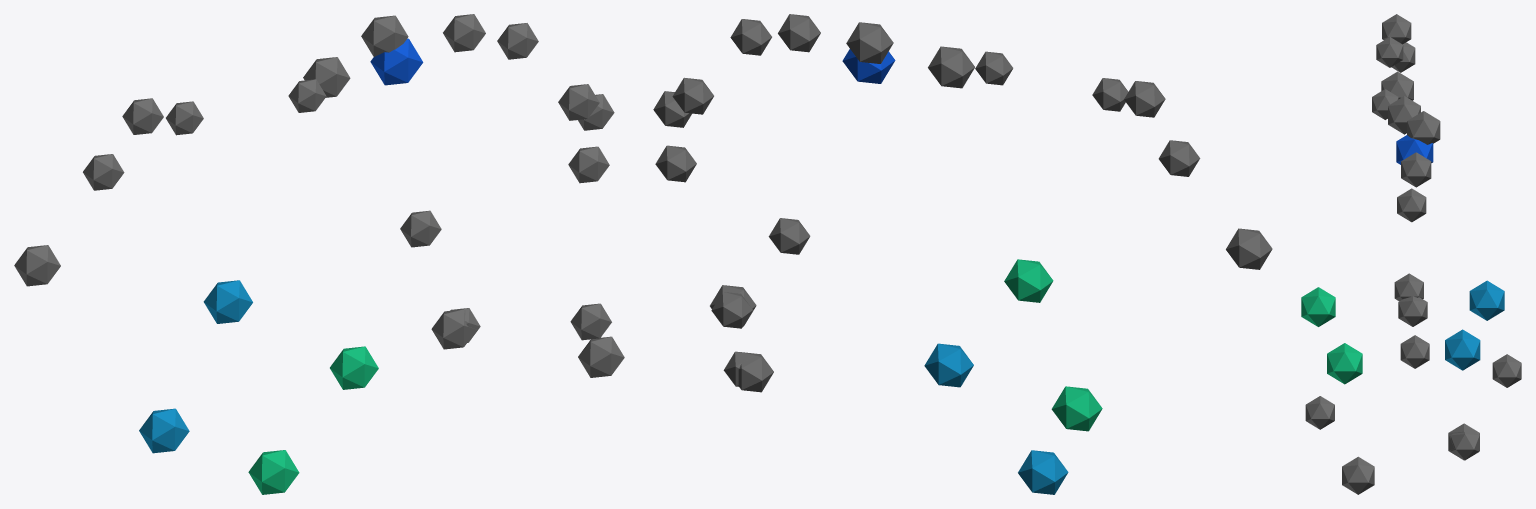
3 renders of one model, left to right at view 1: azimuth 30°, elevation 25°; view 2: azimuth 150°, elevation 25°; view 3: azimuth 270°, elevation 25°, orthographic. The views are drawn at different scales.
Parts seen in each view (by area): view 1: 05_08_02; view 2: 05_08_02; view 3: 05_08_02.
Boxes of the visible parts, x1,y1,x2,y2 form: 05_08_02: (14,14,624,494); 05_08_02: (653,14,1272,494); 05_08_02: (1301,14,1521,494).
Bounding box in the file's own units: 0.6522 × 0.4186 × 0.2537.
